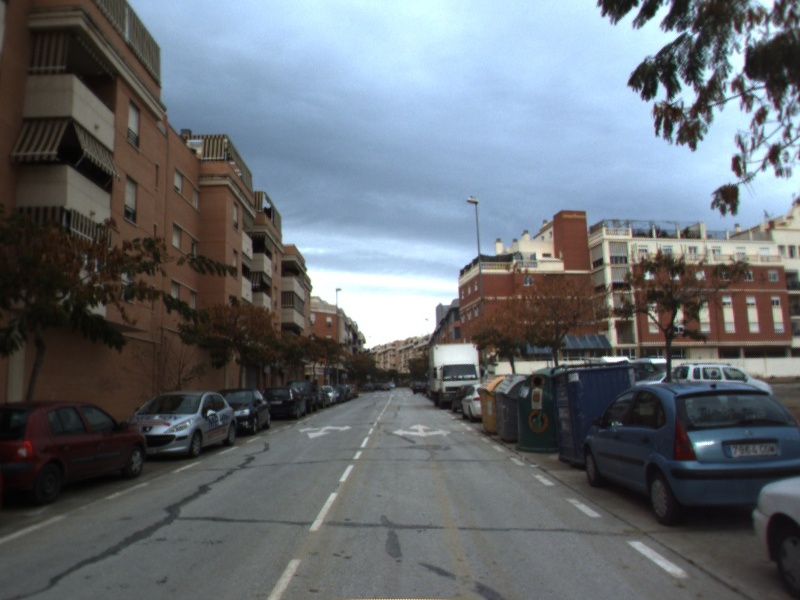STRAIGHT_LEFT_RIGHT: (390, 421, 454, 439)
